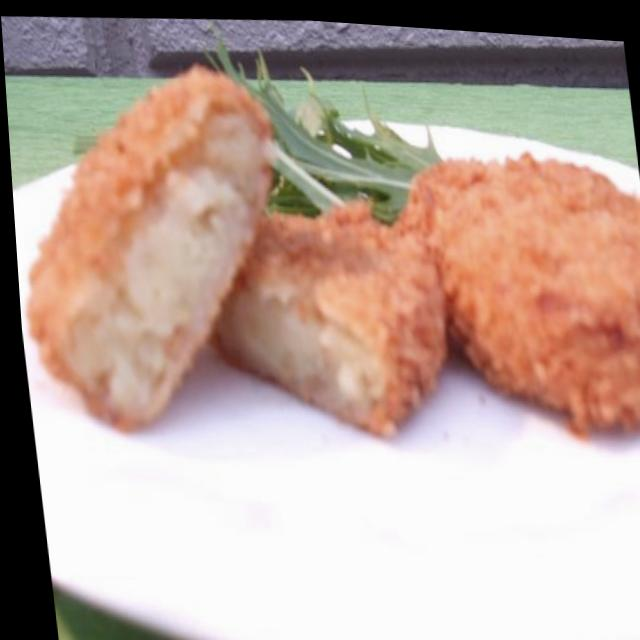炸货点心: (1, 21, 640, 490)
